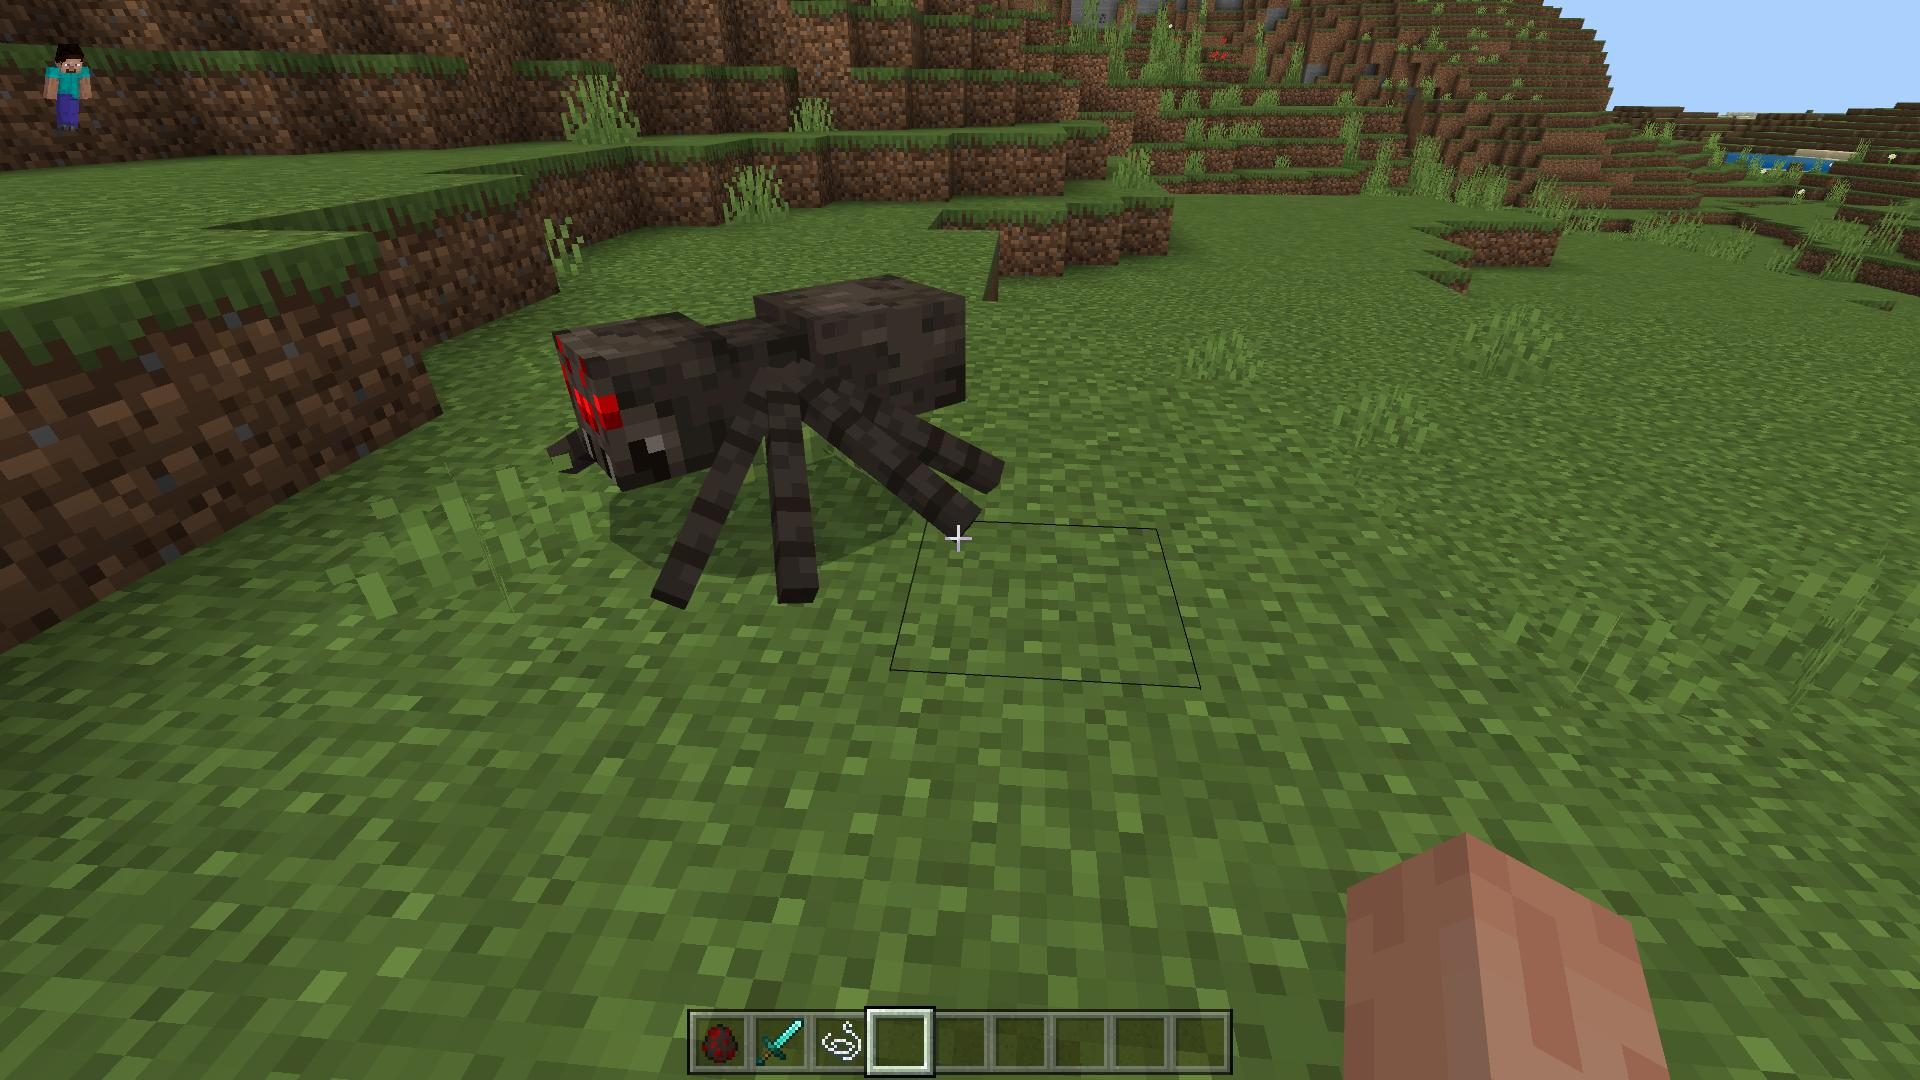spider: (541, 273, 1005, 612)
